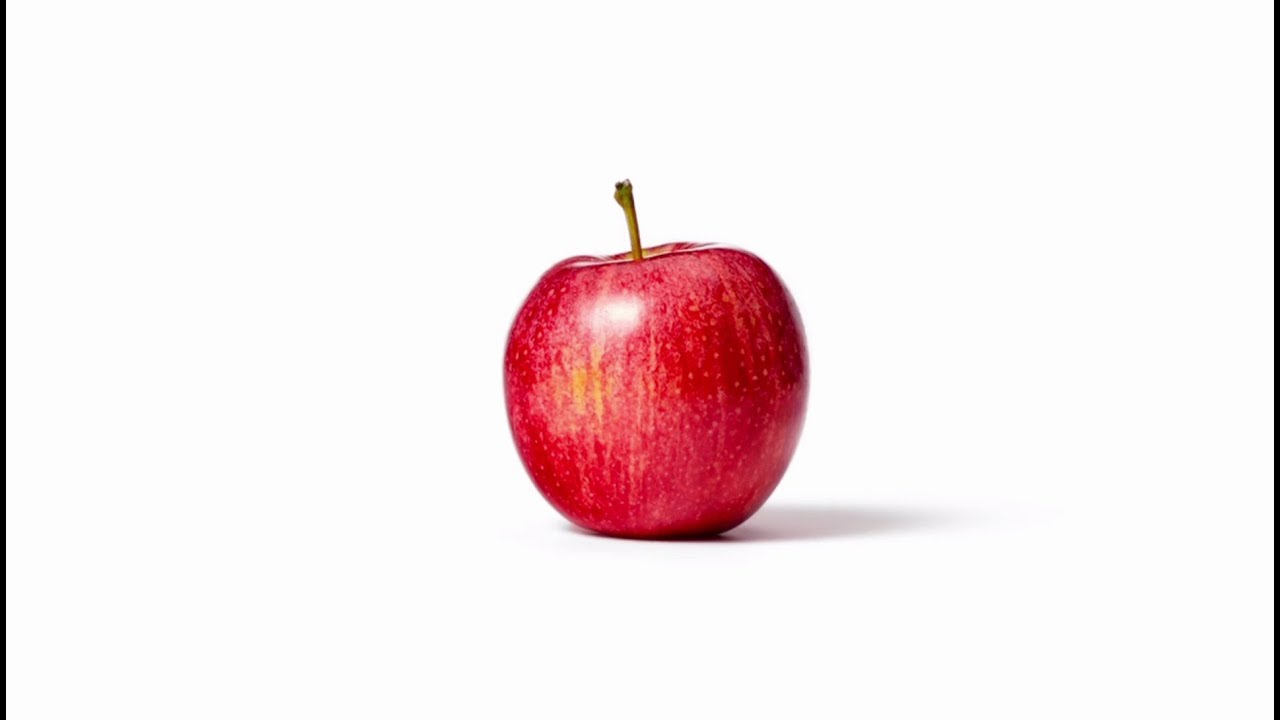apple: (496, 234, 816, 548)
